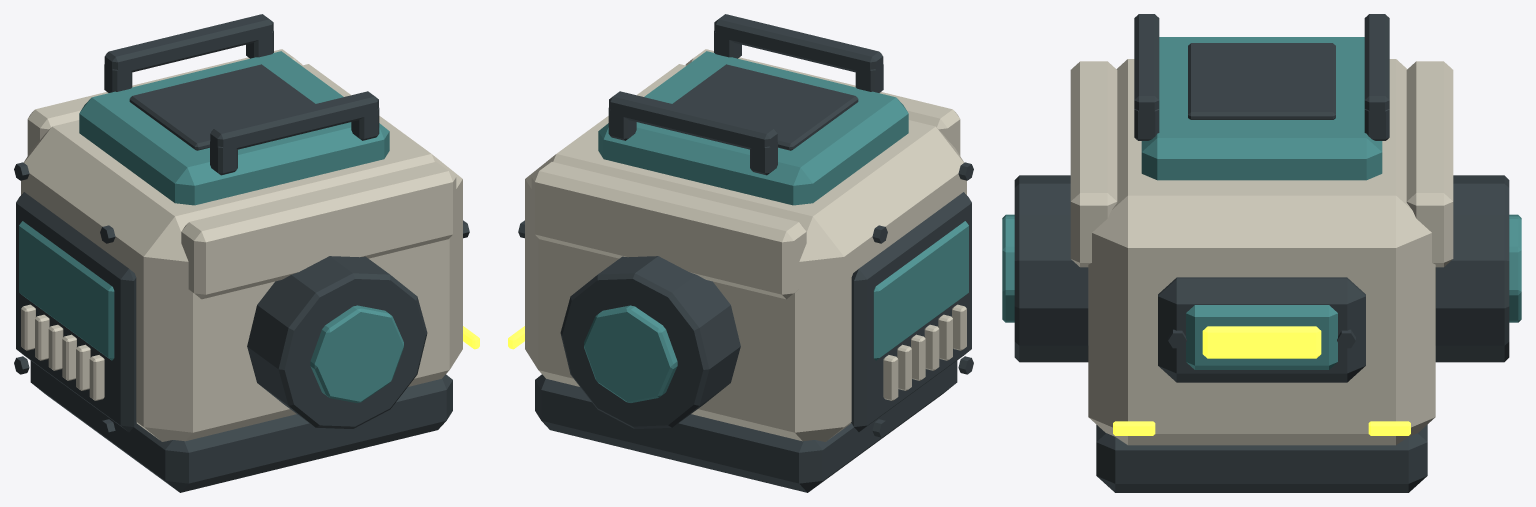
Rendered from SM_CP_TurretHead.fbx.
3 views of the same model, side by side, from view 1: azimuth 30°, elevation 25°; view 2: azimuth 150°, elevation 25°; view 3: azimuth 270°, elevation 25° (orthographic). The views are drawn at different scales.
Visible parts, largest first — view 1: SM_CP_TurretHead; view 2: SM_CP_TurretHead; view 3: SM_CP_TurretHead.
Boxes of the visible parts, x1,y1,x2,y2 form: SM_CP_TurretHead: [14, 14, 479, 492]; SM_CP_TurretHead: [508, 14, 973, 492]; SM_CP_TurretHead: [1002, 14, 1521, 492].
Bounding box in the file's own units: 0.608 × 0.658 × 0.5165.
